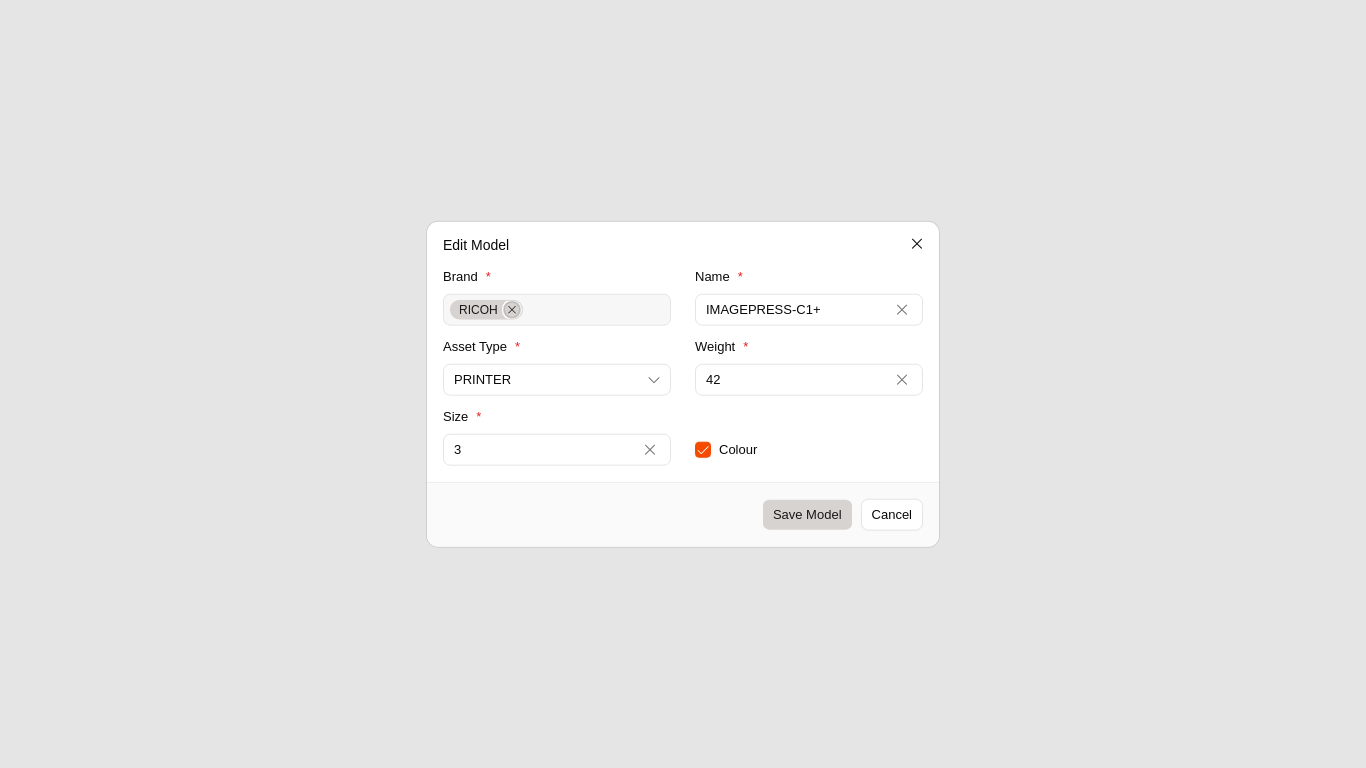
Test: EditModelModal › guards an unsaved edit instead of closing straight away
Replace the text in the field showing "IMAGEPRESS-C1+" below "Name" with "CHANGED": (793, 310) [696, 294, 890, 326]
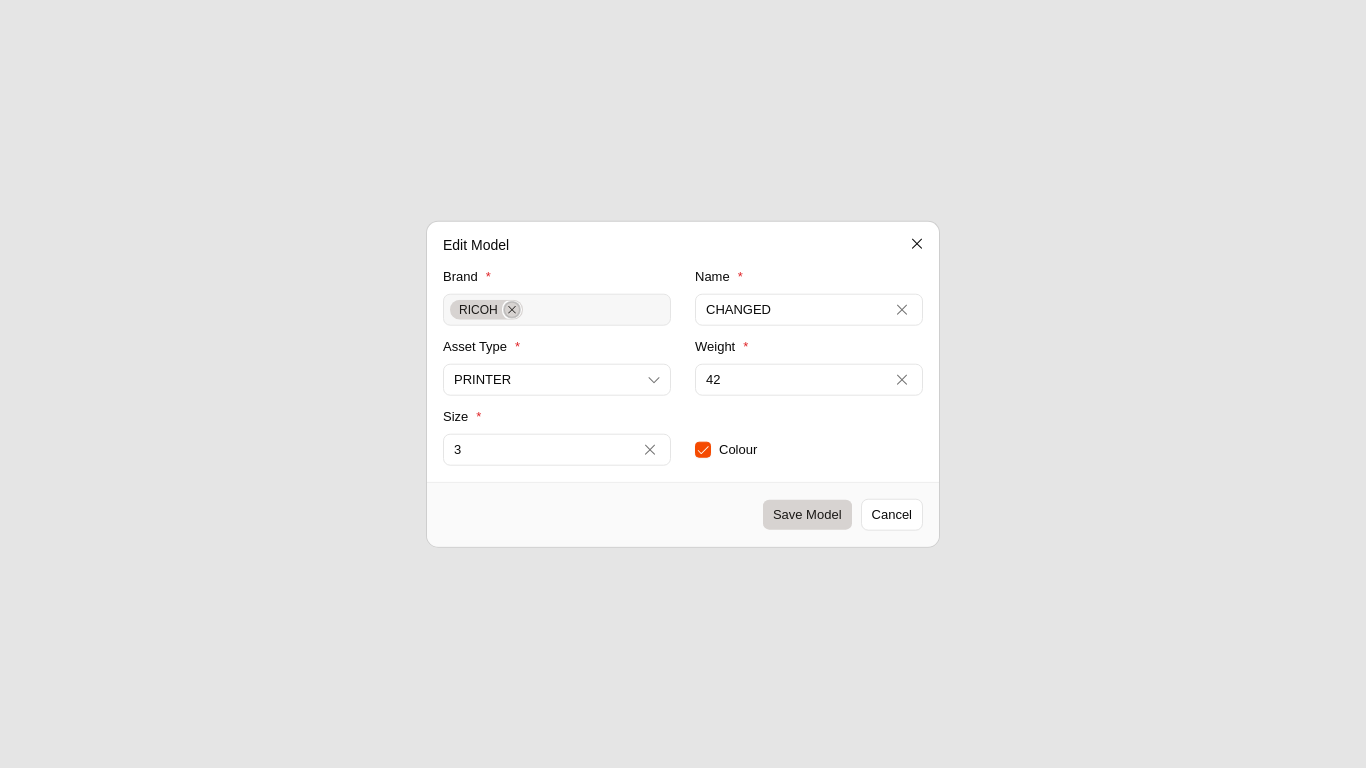
Click the button "Cancel": (892, 514) [860, 498, 923, 530]
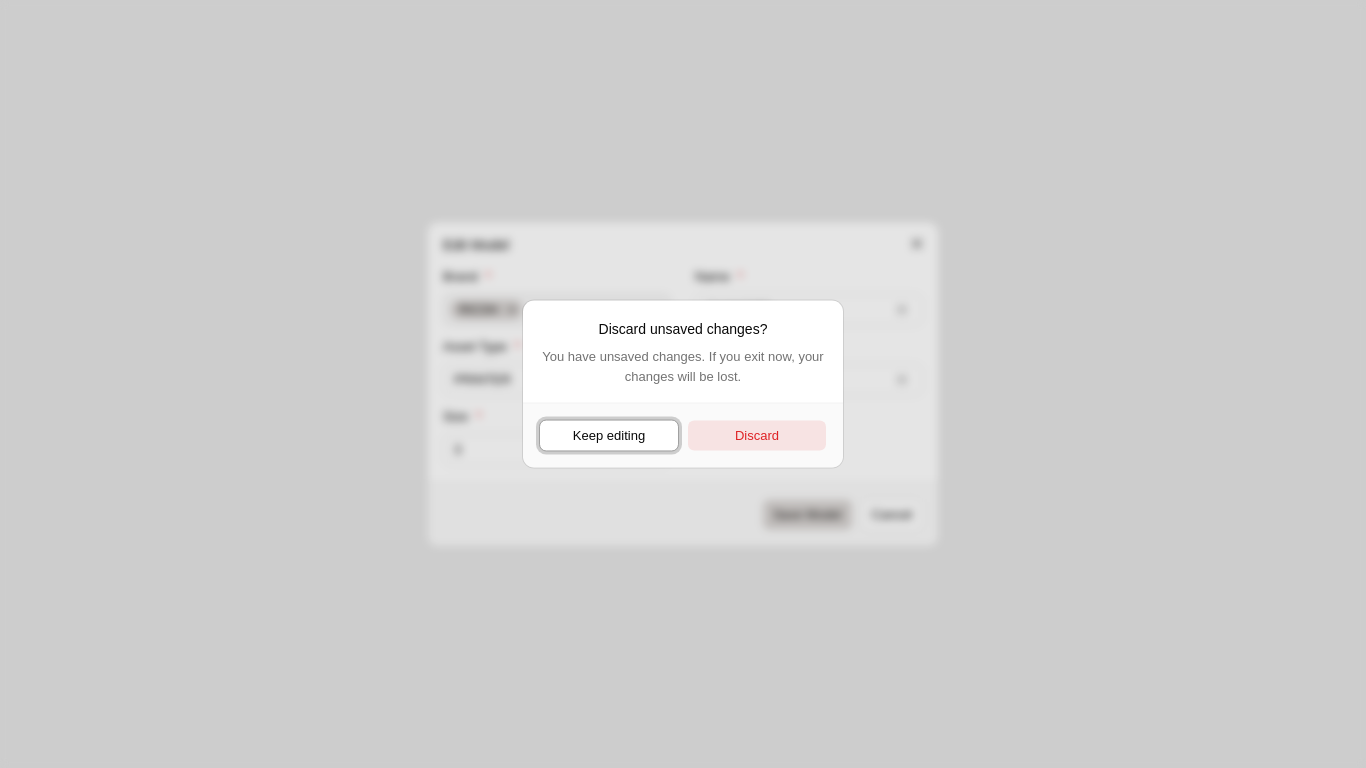
Now the button "Discard" is shown, box [687, 420, 827, 452]
